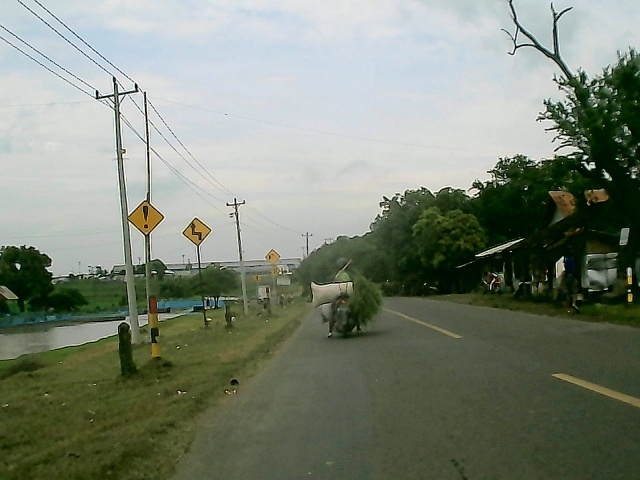Hati-hati: (125, 196, 167, 239)
Peringatan tepi air: (263, 246, 280, 265)
Tikungan garda pertama kiri: (179, 216, 214, 249)
